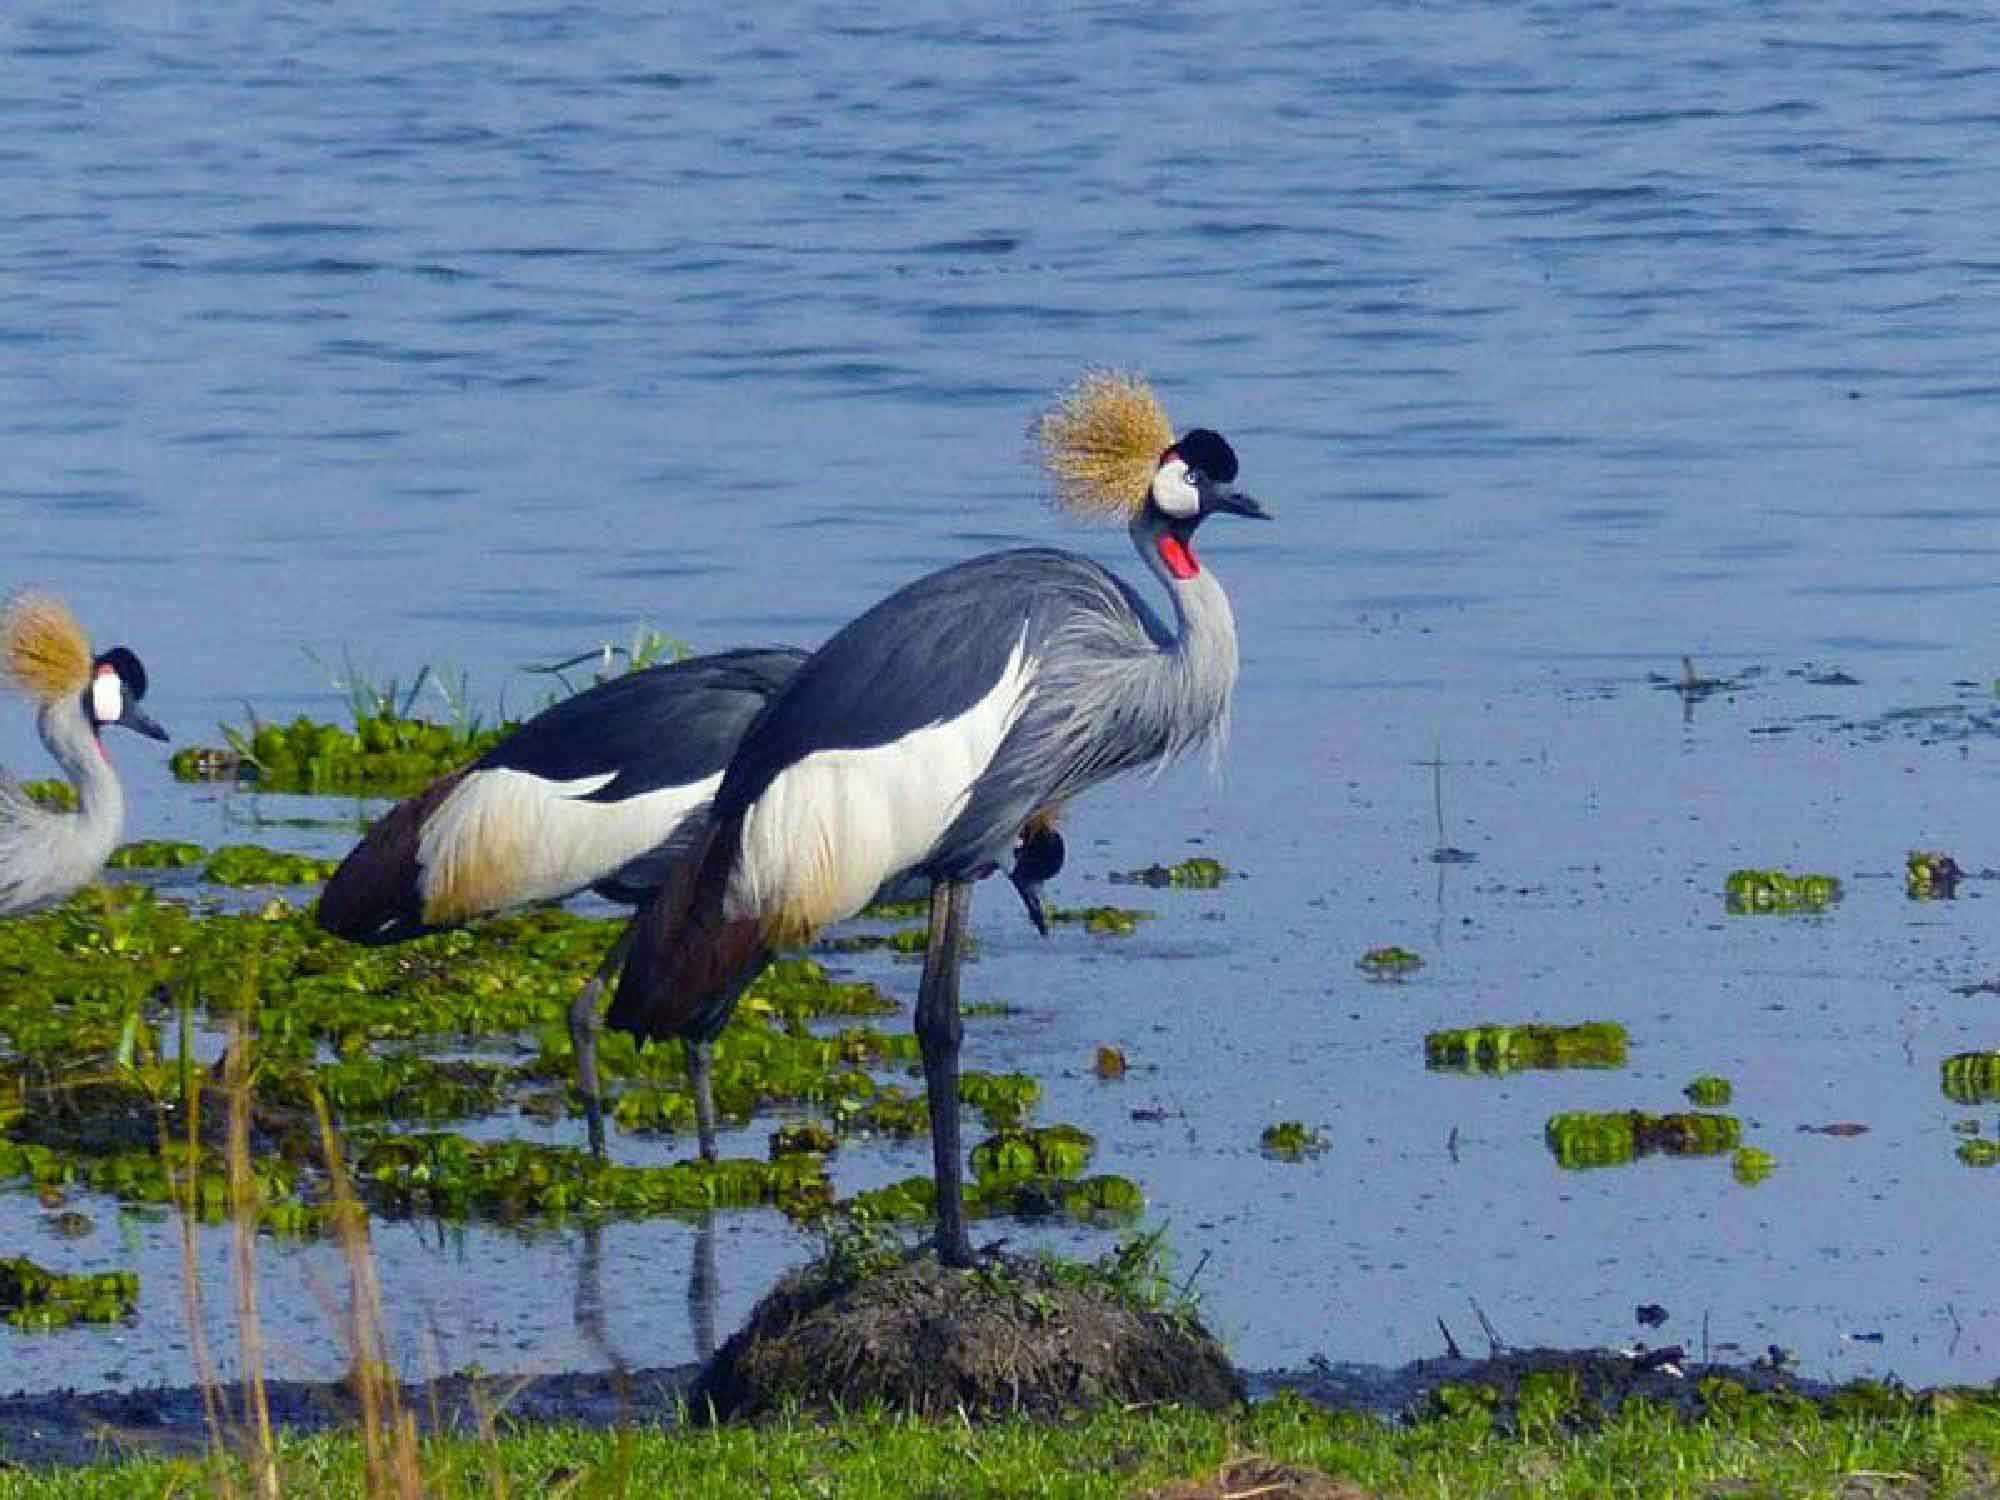bird: (603, 359, 1298, 1298), (315, 592, 1087, 1175), (2, 562, 189, 926)
